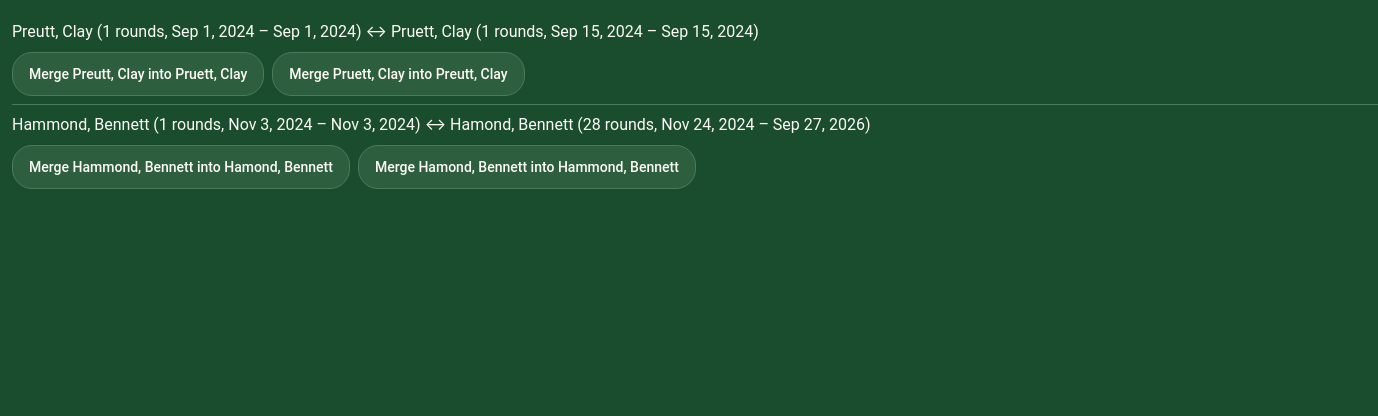
Test: DuplicatesQueue › clears a failed merge when the admin cancels or starts another preview
Click the button "Merge Hamond, Bennett into Hammond, Bennett".
click(527, 167)  # box [358, 145, 696, 189]
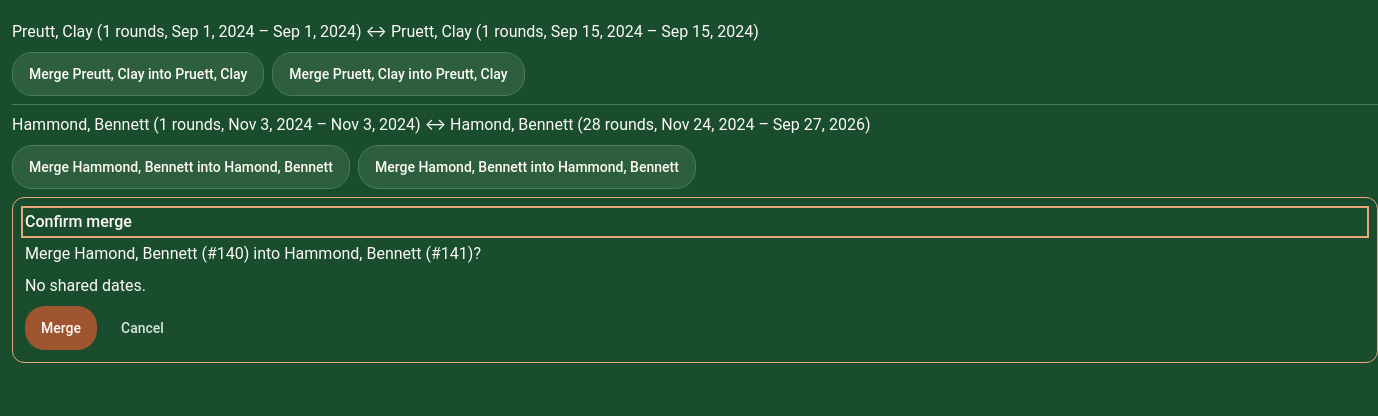
Click the button "Merge".
click(61, 328)  # box [25, 306, 97, 350]
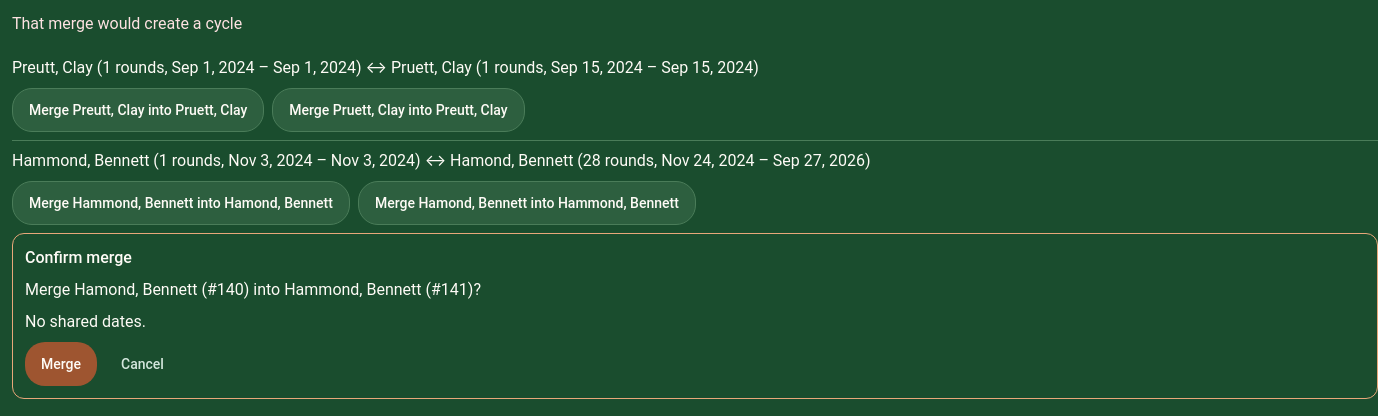
expect the message reads "That merge would create a cycle": met, box [12, 14, 242, 33]
Click the button "Cancel".
click(142, 364)  # box [105, 342, 180, 386]
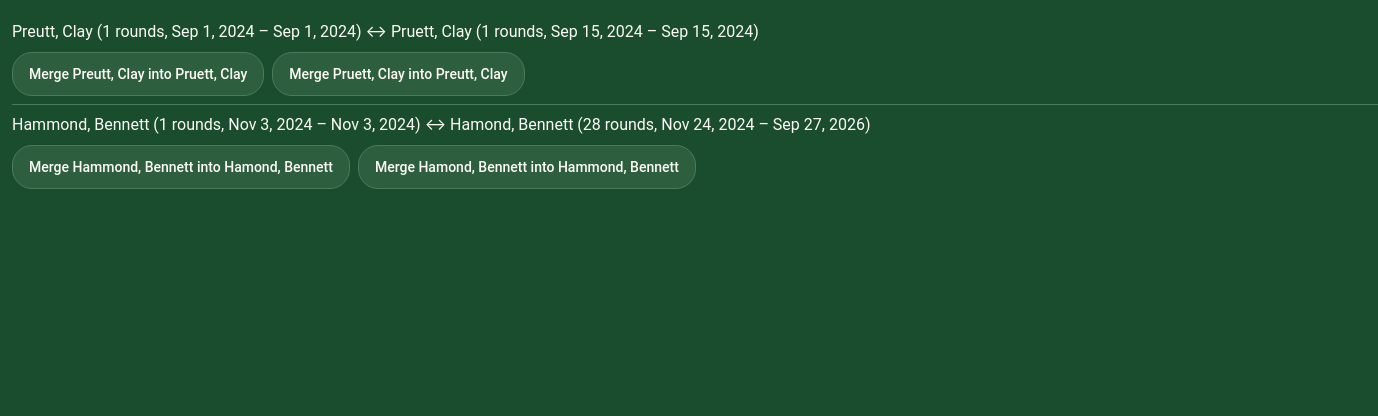
expect the message "That merge would create a cycle" is gone: met
Click the button "Merge Hamond, Bennett into Hammond, Bennett".
click(527, 167)  # box [358, 145, 696, 189]
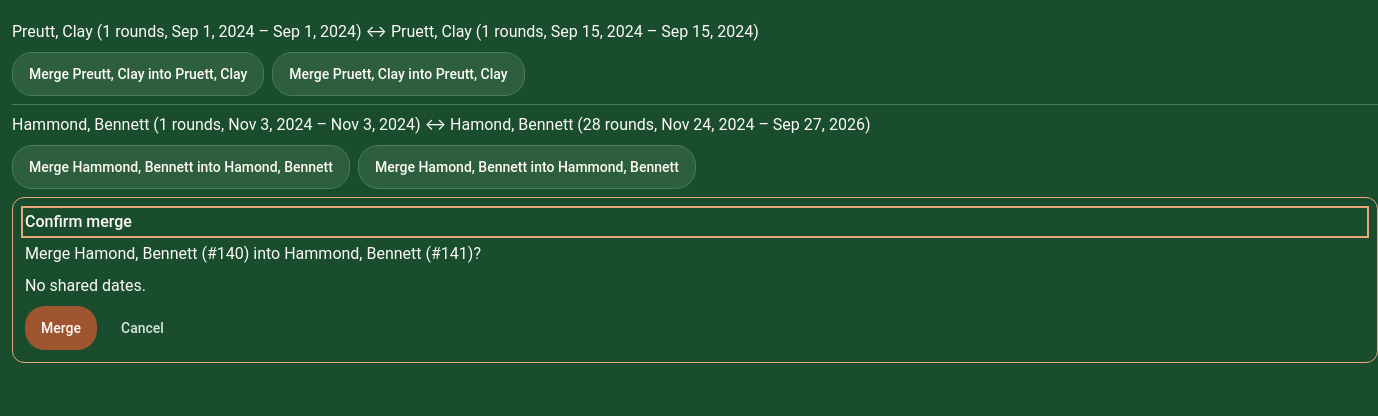
Click the button "Merge".
click(61, 328)  # box [25, 306, 97, 350]
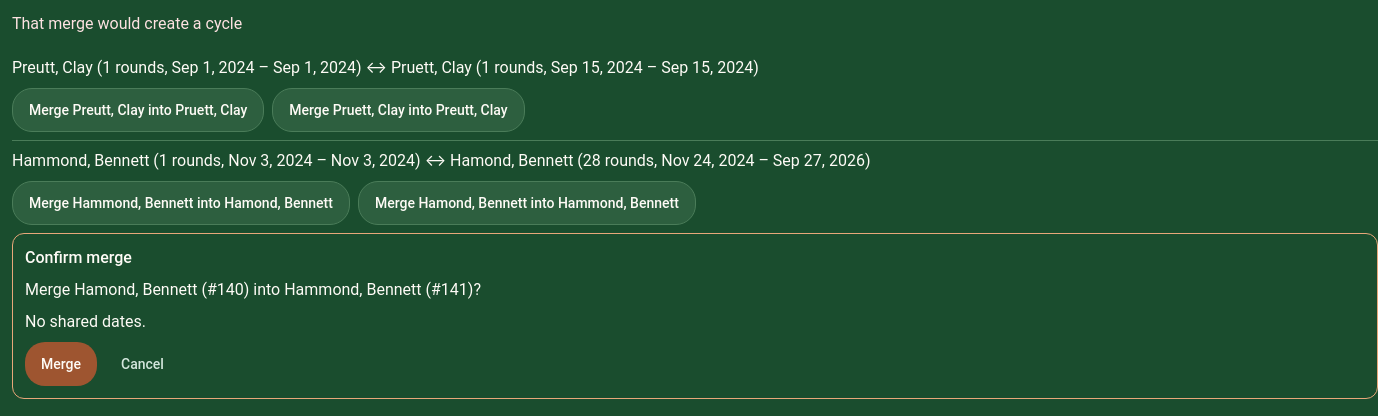
expect the message "That merge would create a cycle" is shown: met, box [12, 14, 242, 33]
Click the button "Merge Pruett, Clay into Preutt, Clay".
click(398, 110)  # box [272, 88, 525, 132]
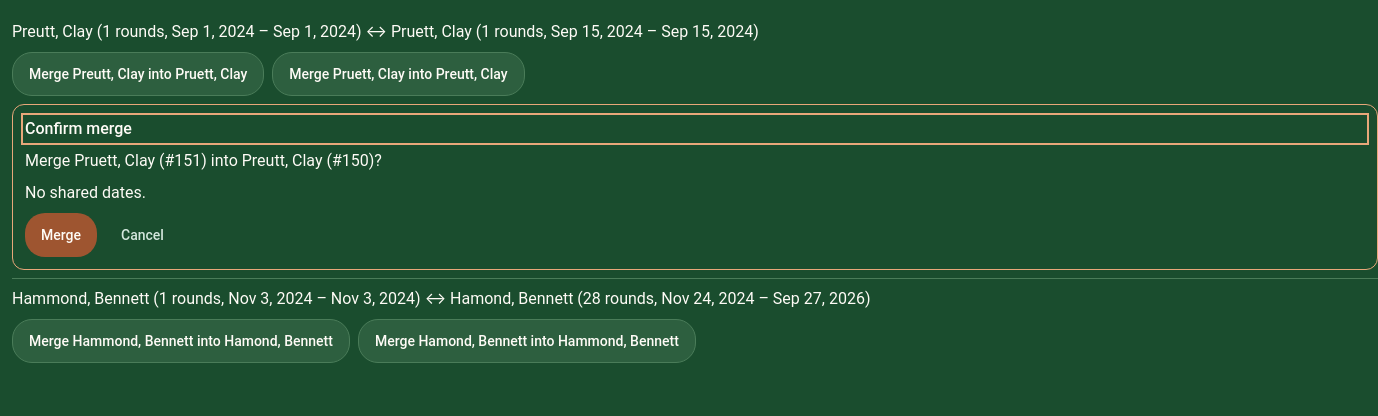
expect the text "Merge Pruett, Clay (#151) into Preutt, Clay (#150)?" is shown: met, box [25, 151, 382, 170]
expect the message "That merge would create a cycle" is gone: met
